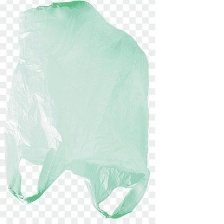plastic_bag: (0, 0, 155, 221)
